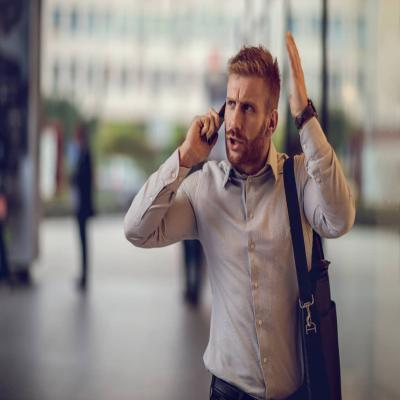angry: (224, 70, 264, 166)
